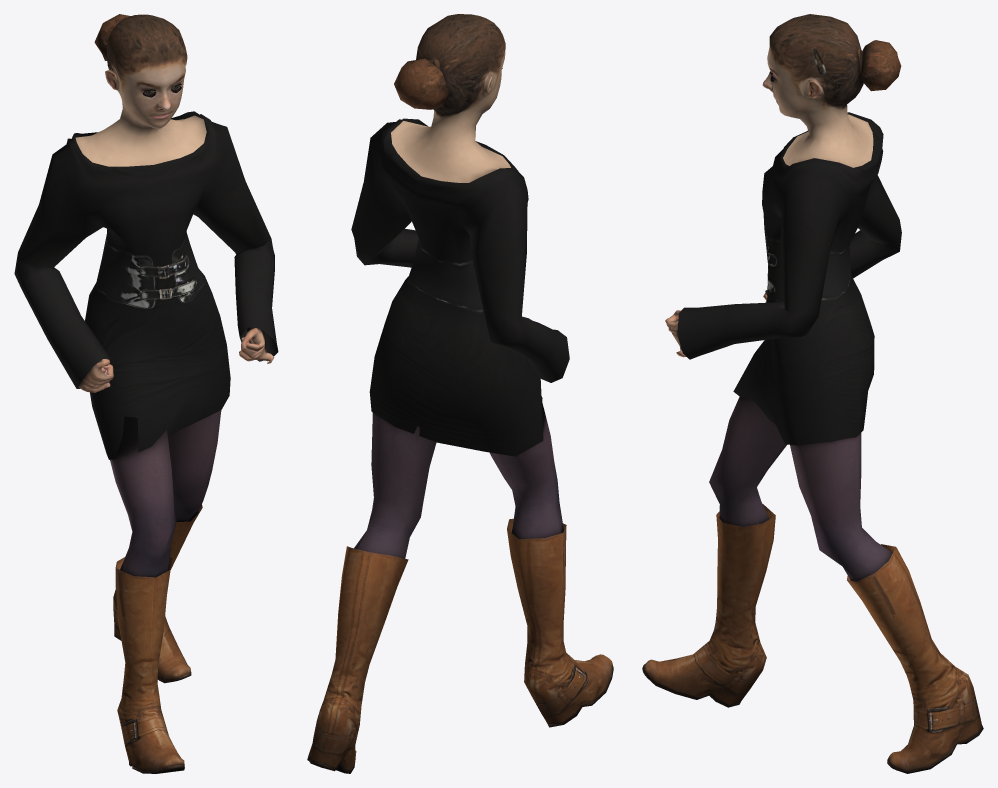
The model's file is Ana_Model_000011.obj.
3 renders of one model, left to right at view 1: azimuth 30°, elevation 25°; view 2: azimuth 150°, elevation 25°; view 3: azimuth 270°, elevation 25°, orthographic. The views are drawn at different scales.
Visible parts, largest first — view 1: Ana_Cube.004; view 2: Ana_Cube.004; view 3: Ana_Cube.004.
Part boxes in pixels (left/top/right/bottom): Ana_Cube.004: left=14, top=14, right=278, bottom=773; Ana_Cube.004: left=307, top=14, right=613, bottom=773; Ana_Cube.004: left=642, top=14, right=983, bottom=773.
Bounding box in the file's own units: 0.5927 × 1.9 × 0.8233.
1 material, 1 textured.
